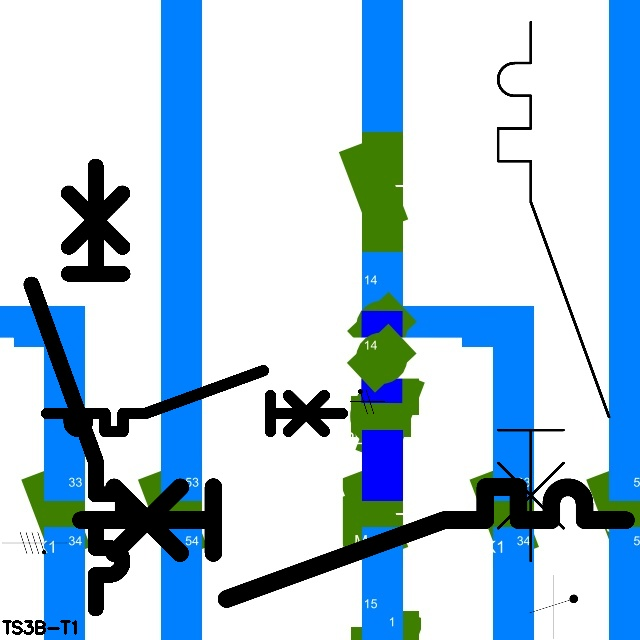interruptor_termomagnetico: (66, 473, 639, 613), (484, 8, 622, 574), (20, 155, 134, 620), (39, 363, 349, 439)
